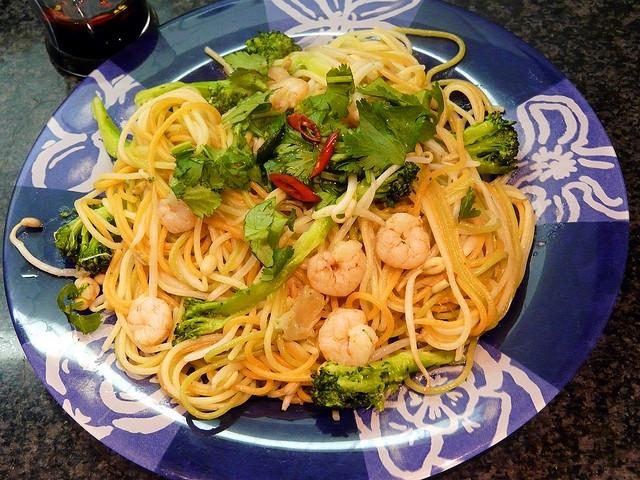broccoli: (172, 263, 300, 346), (309, 350, 467, 412), (450, 111, 520, 175), (134, 80, 252, 116), (54, 206, 114, 274), (336, 161, 420, 209), (245, 30, 302, 75)
lettuce: (342, 98, 427, 172), (308, 63, 355, 120), (244, 200, 274, 268), (170, 140, 198, 180), (212, 152, 252, 176)
